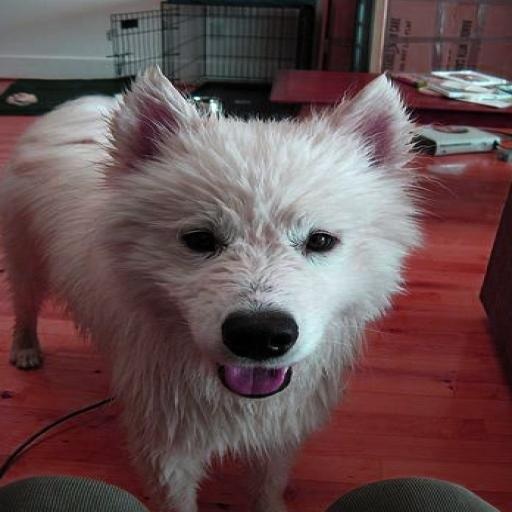dog_face: (101, 76, 412, 400)
